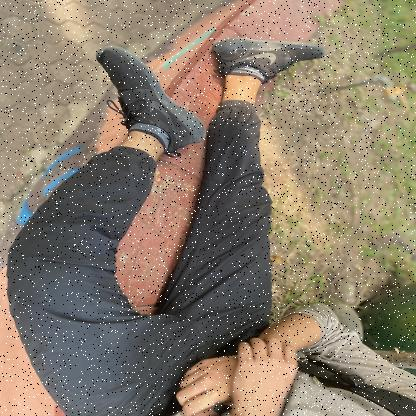leg: (198, 25, 339, 275), (61, 41, 213, 238)
